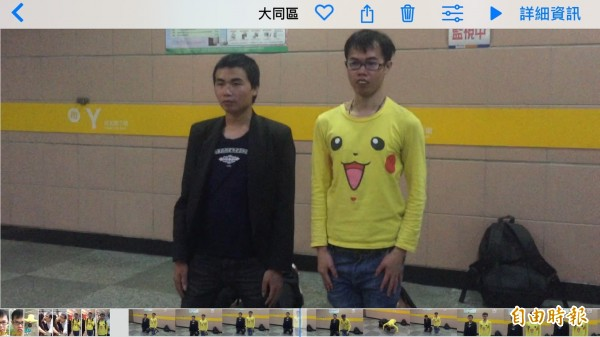people: (171, 53, 306, 307), (317, 30, 426, 308)
